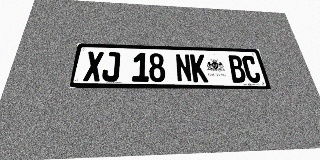1: (132, 53, 149, 82)
8: (149, 53, 165, 82)
B: (227, 55, 247, 83)
C: (241, 55, 262, 83)
J: (101, 52, 120, 82)
K: (190, 54, 208, 82)
N: (175, 54, 193, 82)
X: (83, 51, 104, 81)
